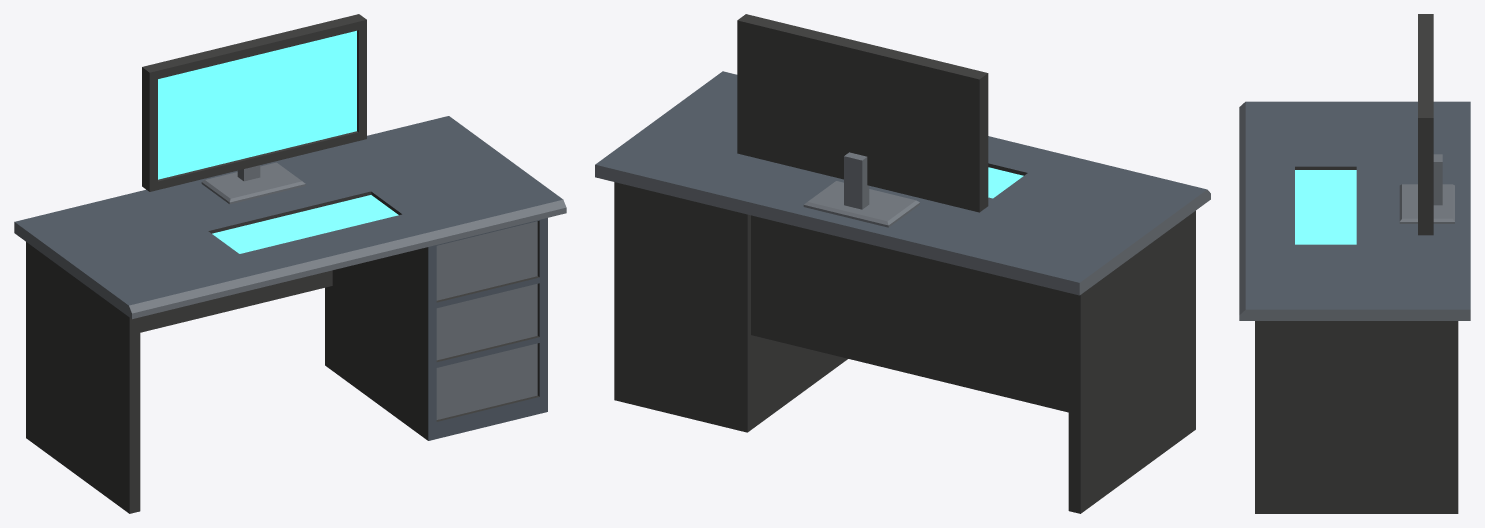
Rendered from desk.glb.
The picture shows the model from 3 angles, left to right: view 1: azimuth 30°, elevation 25°; view 2: azimuth 150°, elevation 25°; view 3: azimuth 270°, elevation 25°; orthographic projection. The views are drawn at different scales.
Parts seen in each view (by area): view 1: desk; view 2: desk; view 3: desk.
Boxes of the visible parts, x1=… form: desk: x1=14, y1=14, x2=566, y2=513; desk: x1=595, y1=14, x2=1210, y2=513; desk: x1=1239, y1=14, x2=1470, y2=513.
Size of the model in its own units: 1.6 by 1.25 by 0.75.
